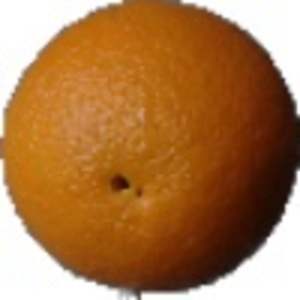laranja: (2, 3, 294, 295)
